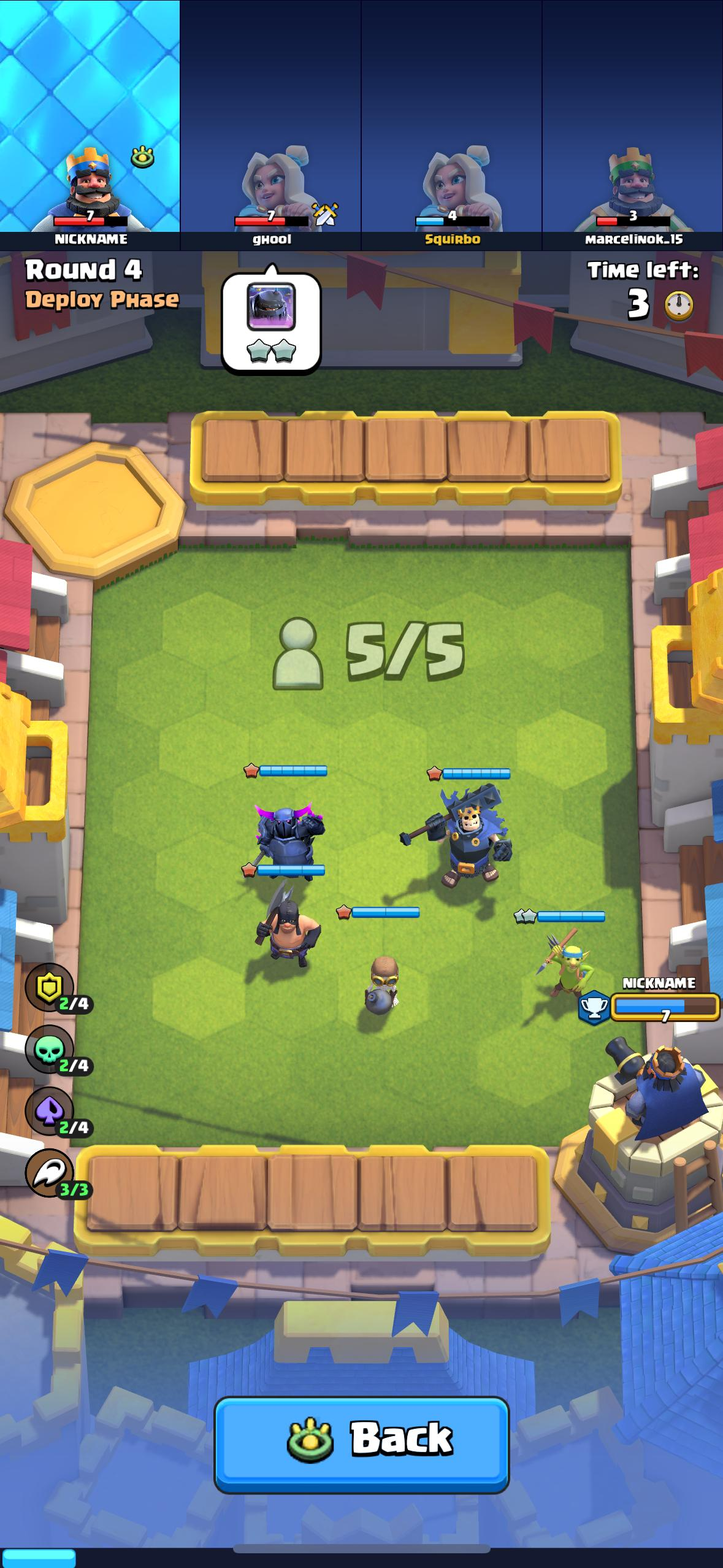bomber: (357, 945, 406, 1016)
executioner: (245, 884, 327, 972)
king: (426, 779, 515, 890)
pekka: (247, 798, 329, 888)
spear: (533, 923, 601, 1004)
